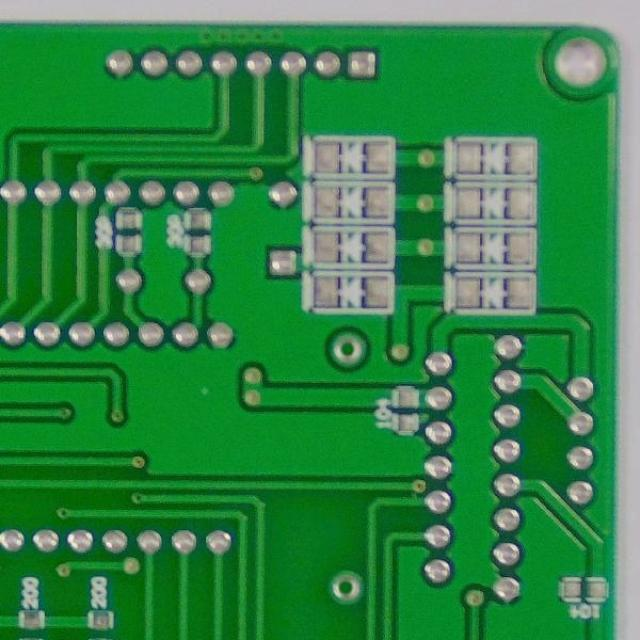Missing_Hole: (326, 328, 369, 369), (326, 570, 364, 604)
